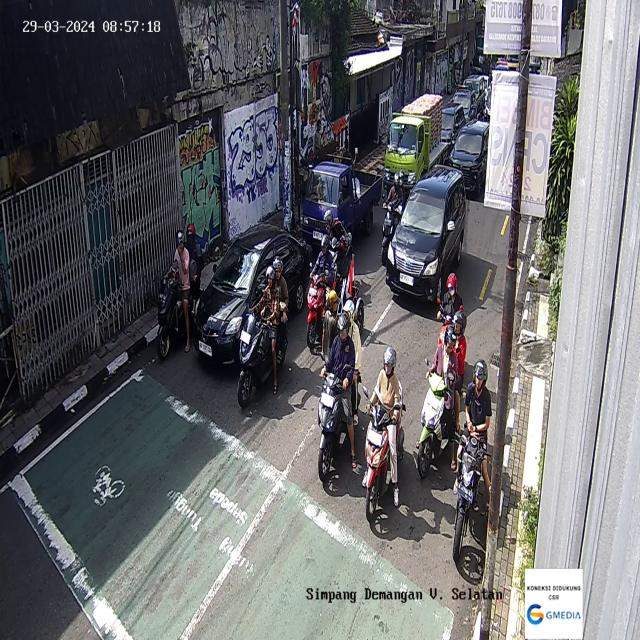car: (192, 222, 311, 367), (385, 164, 467, 304), (386, 163, 466, 303), (452, 119, 493, 195), (438, 106, 466, 151), (451, 87, 477, 124), (464, 73, 485, 113)
motorcycle: (416, 310, 469, 479), (316, 300, 364, 482), (451, 352, 491, 564), (361, 346, 407, 522), (237, 258, 290, 408), (156, 222, 201, 360), (306, 238, 362, 347), (451, 423, 489, 565), (436, 271, 466, 380), (380, 167, 408, 267), (319, 209, 356, 283)
truck: (302, 162, 378, 253), (386, 93, 448, 187)
